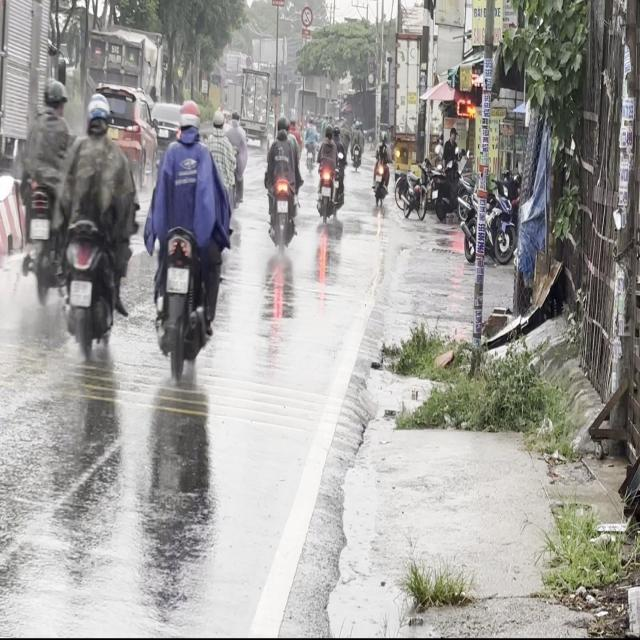helmet: (84, 92, 111, 136), (177, 98, 200, 140), (44, 78, 66, 114), (276, 113, 288, 135)
licenseplate: (145, 95, 230, 380), (61, 89, 134, 361), (18, 76, 72, 294), (263, 112, 300, 252)
nohelmet: (166, 266, 188, 292), (70, 280, 91, 305), (30, 218, 48, 238)
